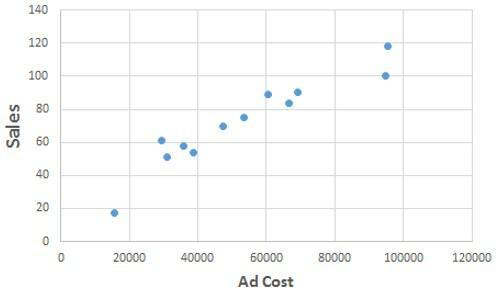axis: (59, 238, 476, 245), (58, 7, 65, 247)
point: (379, 71, 394, 82), (382, 40, 396, 51), (262, 90, 275, 101), (188, 147, 200, 158), (292, 87, 304, 98), (108, 208, 121, 218), (155, 135, 168, 145), (283, 98, 294, 109), (161, 152, 173, 162), (176, 141, 188, 151), (218, 121, 229, 131), (239, 112, 249, 123)
